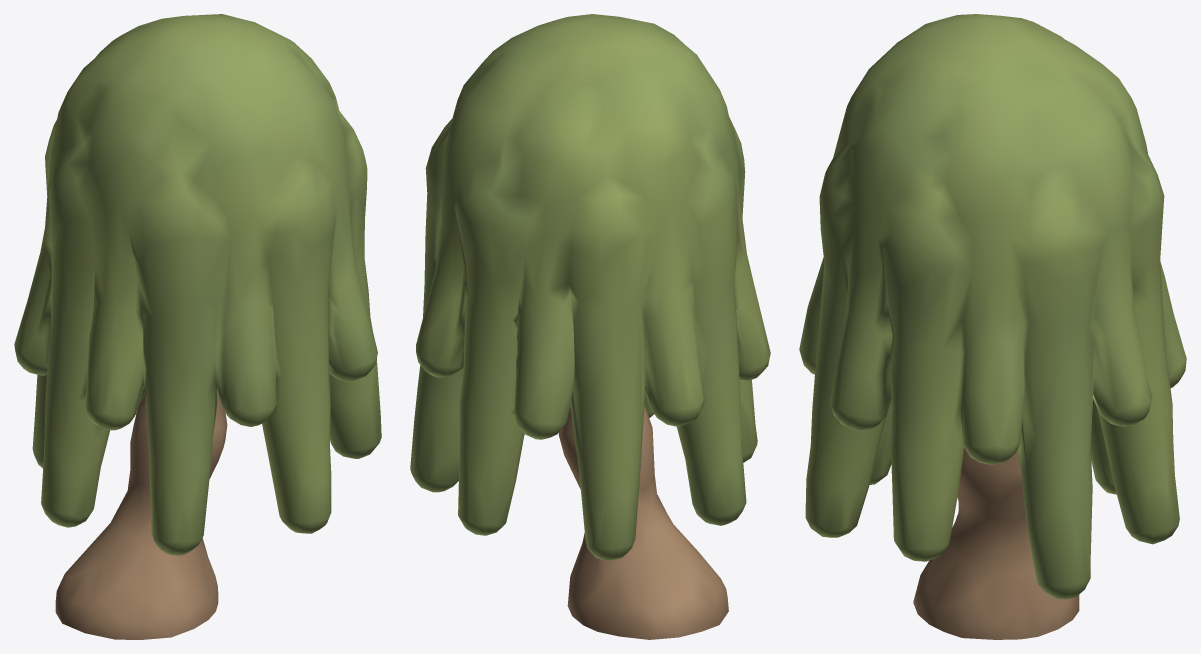
Rendered from willow1.glb.
The picture shows the model from 3 angles, left to right: view 1: azimuth 30°, elevation 25°; view 2: azimuth 150°, elevation 25°; view 3: azimuth 270°, elevation 25°; orthographic projection. The views are drawn at different scales.
Visible parts, largest first — view 1: willow_crown_tall, body; view 2: willow_crown_tall, body; view 3: willow_crown_tall, body.
Boxes of the visible parts, box(x1,y1,x2,y2) form: willow_crown_tall: box(14, 14, 381, 555); body: box(55, 394, 227, 639); willow_crown_tall: box(410, 14, 770, 560); body: box(558, 406, 728, 639); willow_crown_tall: box(799, 14, 1186, 599); body: box(913, 447, 1079, 639).
Size of the model in its own units: 3.24 by 5.55 by 3.23.
